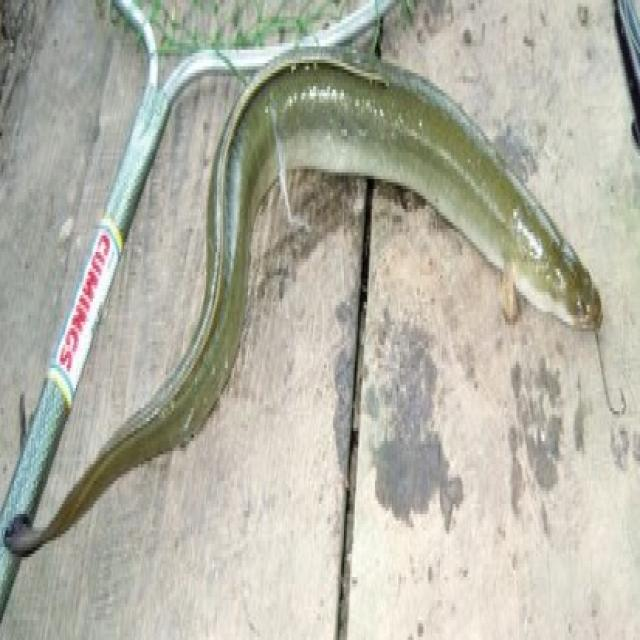Freshwater-Eel: (24, 19, 640, 600)
